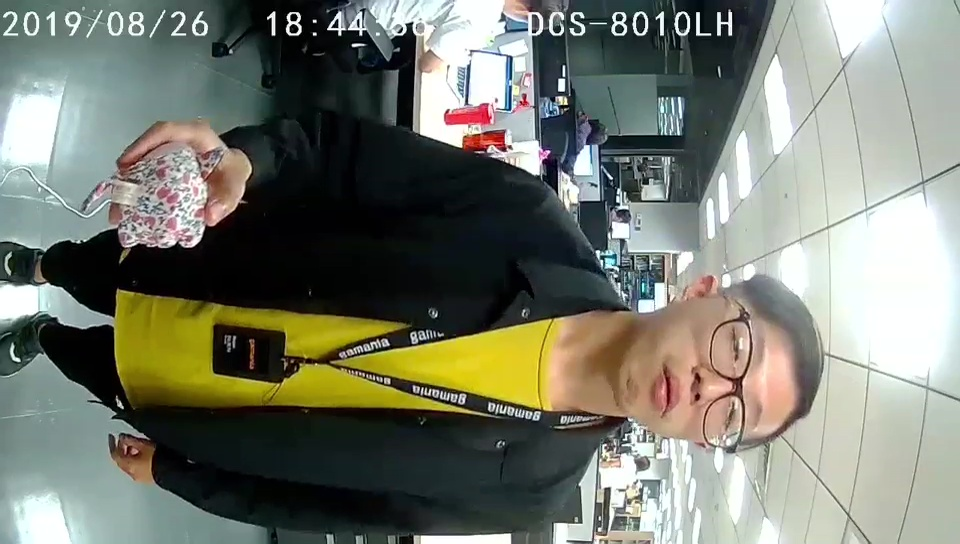pig: (111, 143, 225, 252)
